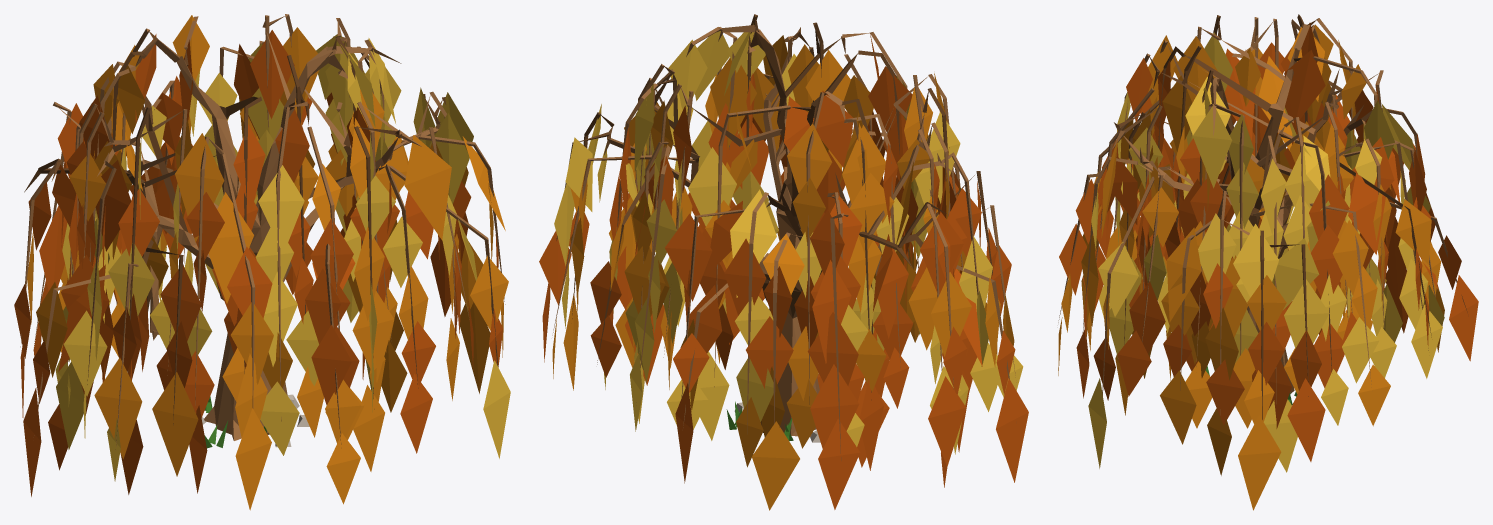
The model's file is willow_autumn.glb.
3 views of the same model, side by side, from view 1: azimuth 30°, elevation 25°; view 2: azimuth 150°, elevation 25°; view 3: azimuth 270°, elevation 25° (orthographic). The views are drawn at different scales.
Parts seen in each view (by area): view 1: willow_autumn; view 2: willow_autumn; view 3: willow_autumn.
Boxes of the visible parts, left/top/right/bottom form: willow_autumn: left=14, top=14, right=510, bottom=510; willow_autumn: left=539, top=14, right=1028, bottom=510; willow_autumn: left=1058, top=14, right=1478, bottom=510.
Bounding box in the file's own units: 8.44 × 7.27 × 7.53.
